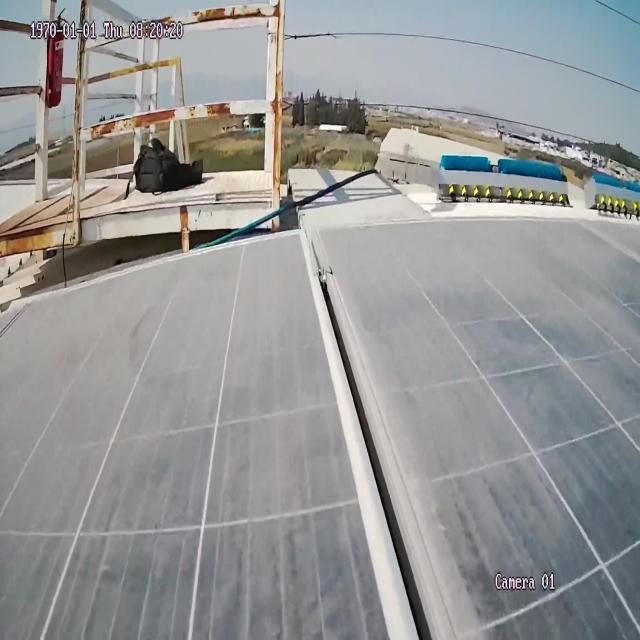interior panel: (284, 217, 523, 640)
